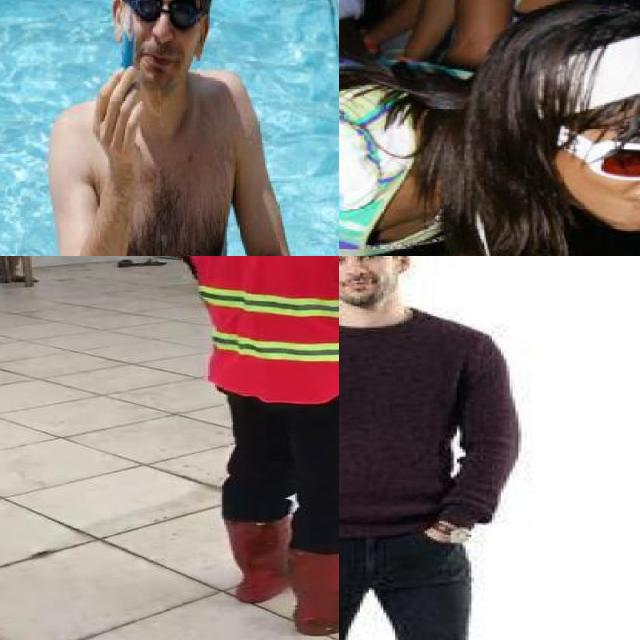No_Ear-Protection: (398, 256, 420, 277)
No_Glasses: (339, 256, 389, 264)
boots: (217, 516, 290, 603), (282, 539, 339, 636)
face_nomask: (129, 0, 200, 78), (588, 122, 640, 219), (339, 267, 398, 310)
glasses: (553, 112, 640, 181), (124, 0, 205, 32)
hand_noglove: (90, 63, 150, 163)
head_nohelmet: (505, 0, 640, 125)
person: (339, 20, 640, 256), (339, 256, 520, 640), (165, 256, 339, 638), (45, 0, 302, 256)
vest: (179, 256, 339, 405)
